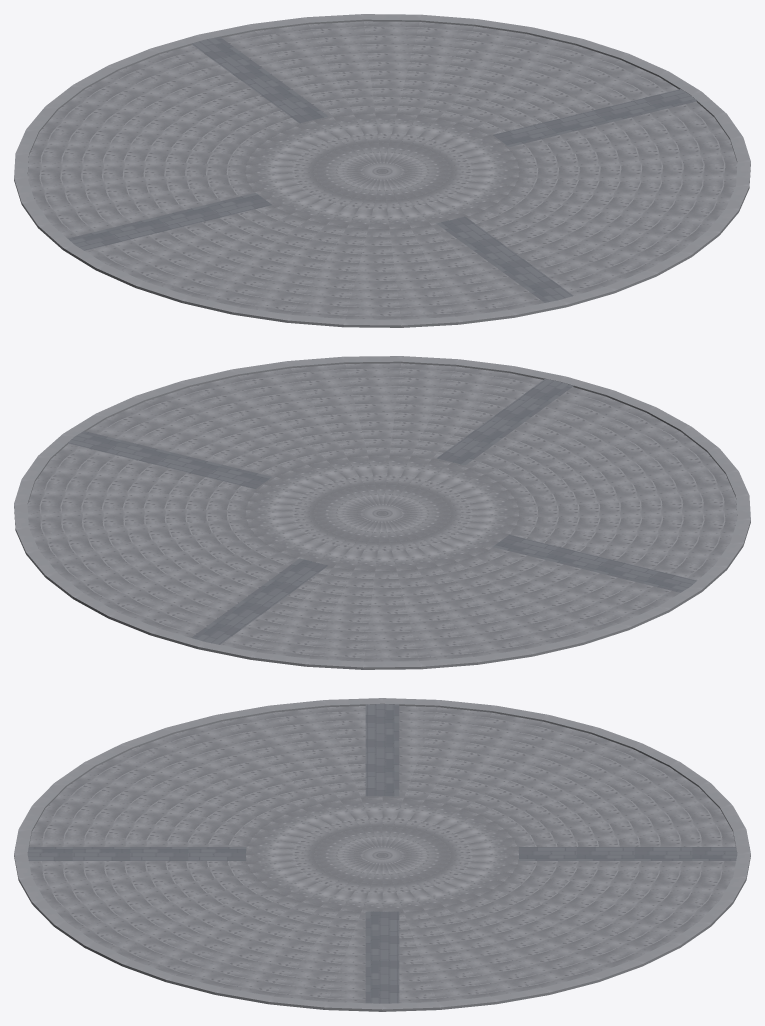
Rendered from village_large_base.glb.
The picture shows the model from 3 angles, top to bottom: view 1: azimuth 30°, elevation 25°; view 2: azimuth 150°, elevation 25°; view 3: azimuth 270°, elevation 25°; orthographic projection.
Parts seen in each view (by area): view 1: ae_snow_village_large_base; view 2: ae_snow_village_large_base; view 3: ae_snow_village_large_base.
Boxes of the visible parts, x1,y1,x2,y2 form: ae_snow_village_large_base: (14,14,750,327); ae_snow_village_large_base: (14,356,750,669); ae_snow_village_large_base: (14,698,750,1011).
Size of the model in its own units: 1.64 by 0.00599 by 1.64.
Materials: 1 (1 with a texture image).
